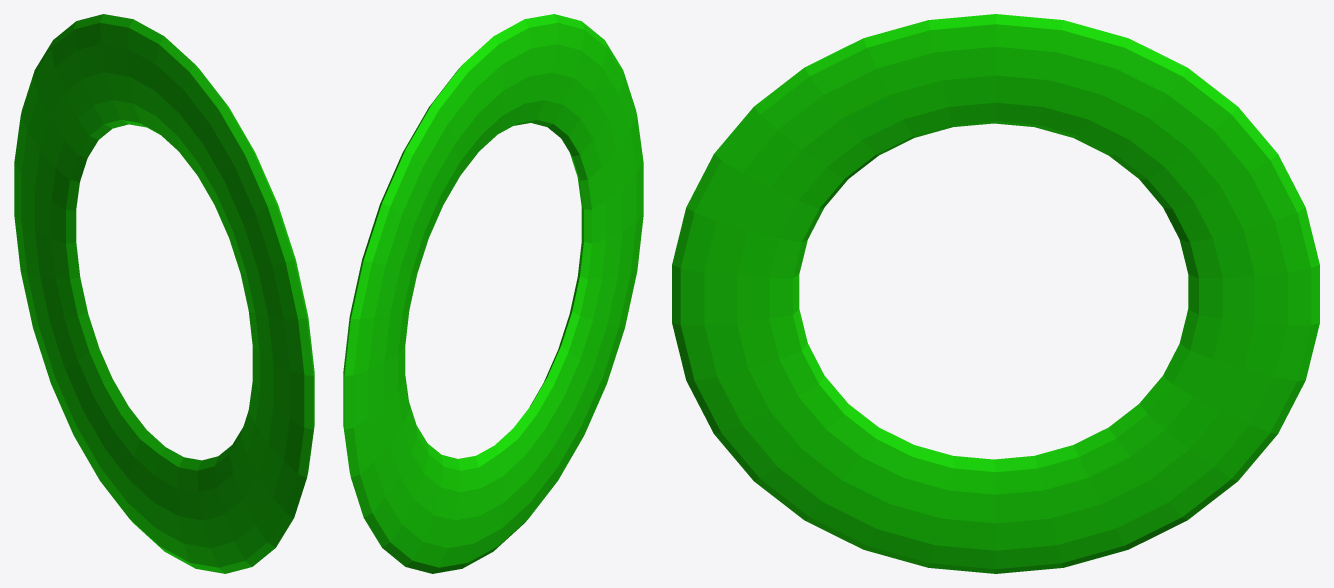
3 views of the same model, side by side, from view 1: azimuth 30°, elevation 25°; view 2: azimuth 150°, elevation 25°; view 3: azimuth 270°, elevation 25° (orthographic). The views are drawn at different scales.
Parts seen in each view (by area): view 1: Torus.001; view 2: Torus.001; view 3: Torus.001.
Part boxes in pixels (x1,y1,x2,y2): Torus.001: (14,14,314,573); Torus.001: (343,14,643,573); Torus.001: (672,14,1319,573).
Bounding box in the file's own units: 50 × 1194 × 1252.
